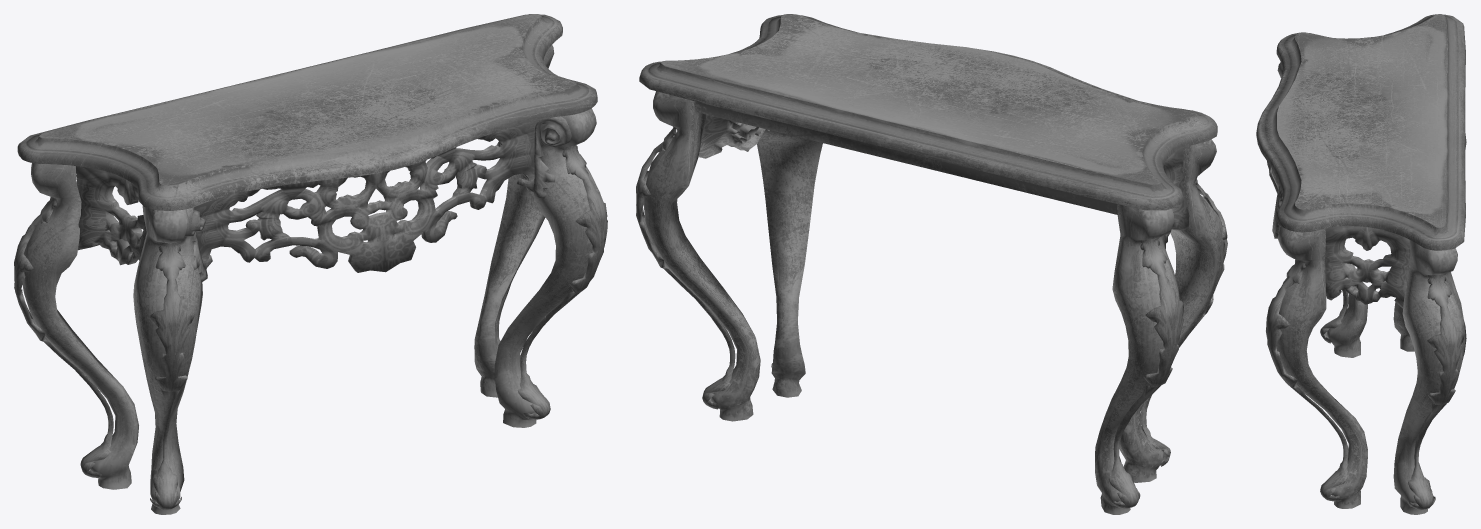
The model's file is ClassicConsole_01_2k.glb.
3 views of the same model, side by side, from view 1: azimuth 30°, elevation 25°; view 2: azimuth 150°, elevation 25°; view 3: azimuth 270°, elevation 25° (orthographic). The views are drawn at different scales.
Parts seen in each view (by area): view 1: ClassicConsole_01; view 2: ClassicConsole_01; view 3: ClassicConsole_01.
Part boxes in pixels (box(x1,y1,x2,y2)): ClassicConsole_01: box(14, 14, 607, 514); ClassicConsole_01: box(636, 14, 1227, 514); ClassicConsole_01: box(1256, 14, 1466, 514).
Size of the model in its own units: 1.54 by 0.9491 by 0.5893.
1 material, 1 textured.
